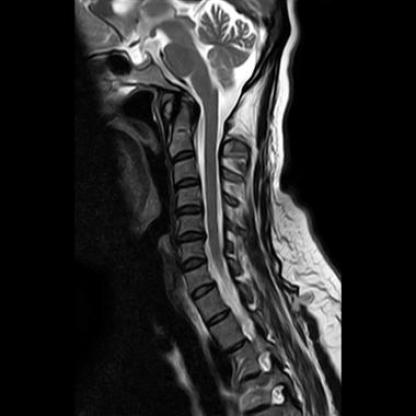Disc Bulgerotation: (179, 256, 209, 273), (176, 230, 205, 246)
Osteophytesrotation: (179, 256, 209, 273), (177, 230, 206, 246)
